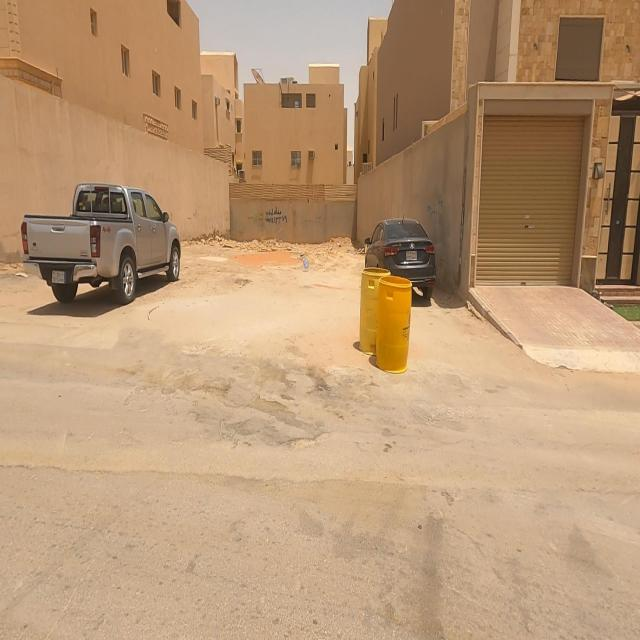Graffiti: (426, 190, 445, 228), (265, 206, 288, 228), (307, 213, 324, 230), (248, 210, 265, 226)
